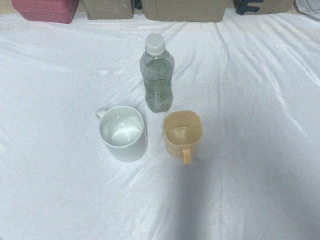bottle: (139, 33, 175, 113)
box: (231, 1, 298, 15)
cup: (98, 106, 148, 163), (163, 110, 204, 164)
